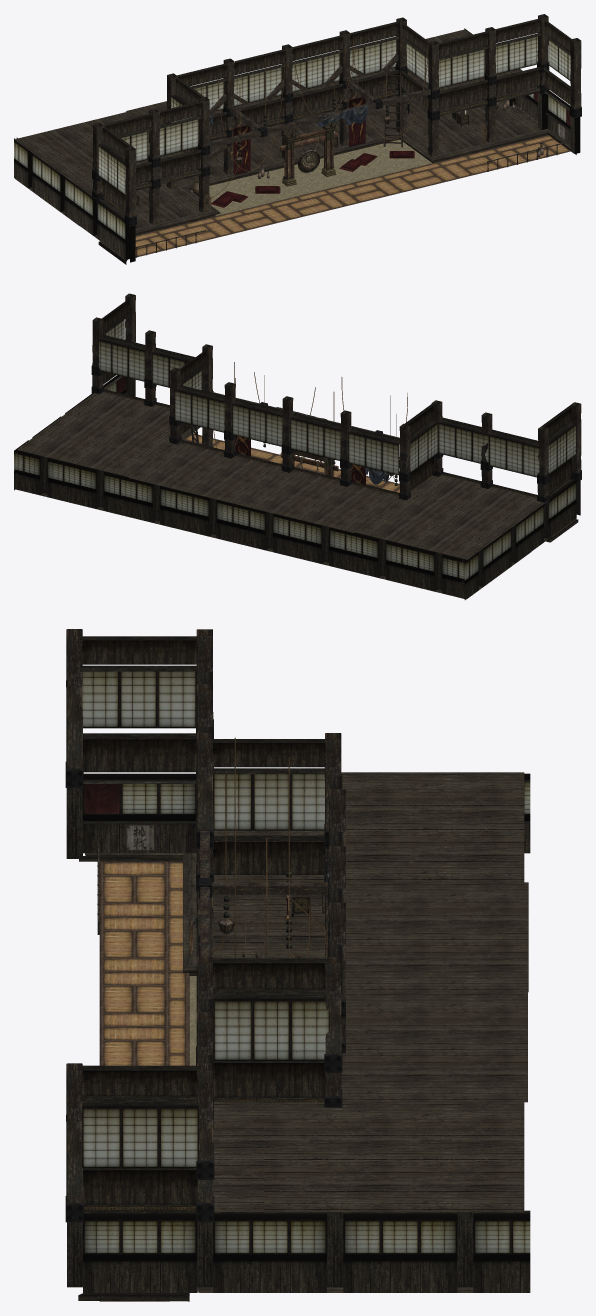
Rendered from ChallengeTower.glb.
The picture shows the model from 3 angles, top to bottom: view 1: azimuth 30°, elevation 25°; view 2: azimuth 150°, elevation 25°; view 3: azimuth 270°, elevation 25°; orthographic projection. The views are drawn at different scales.
Parts seen in each view (by area): view 1: challengetower; view 2: challengetower; view 3: challengetower.
Part boxes in pixels (x1=…): challengetower: x1=14, y1=14, x2=581, y2=264; challengetower: x1=14, y1=293, x2=581, y2=599; challengetower: x1=65, y1=629, x2=530, y2=1301.
Bounding box in the file's own units: 35.12 × 9.33 × 15.59.
Materials: 242 (242 with a texture image).
